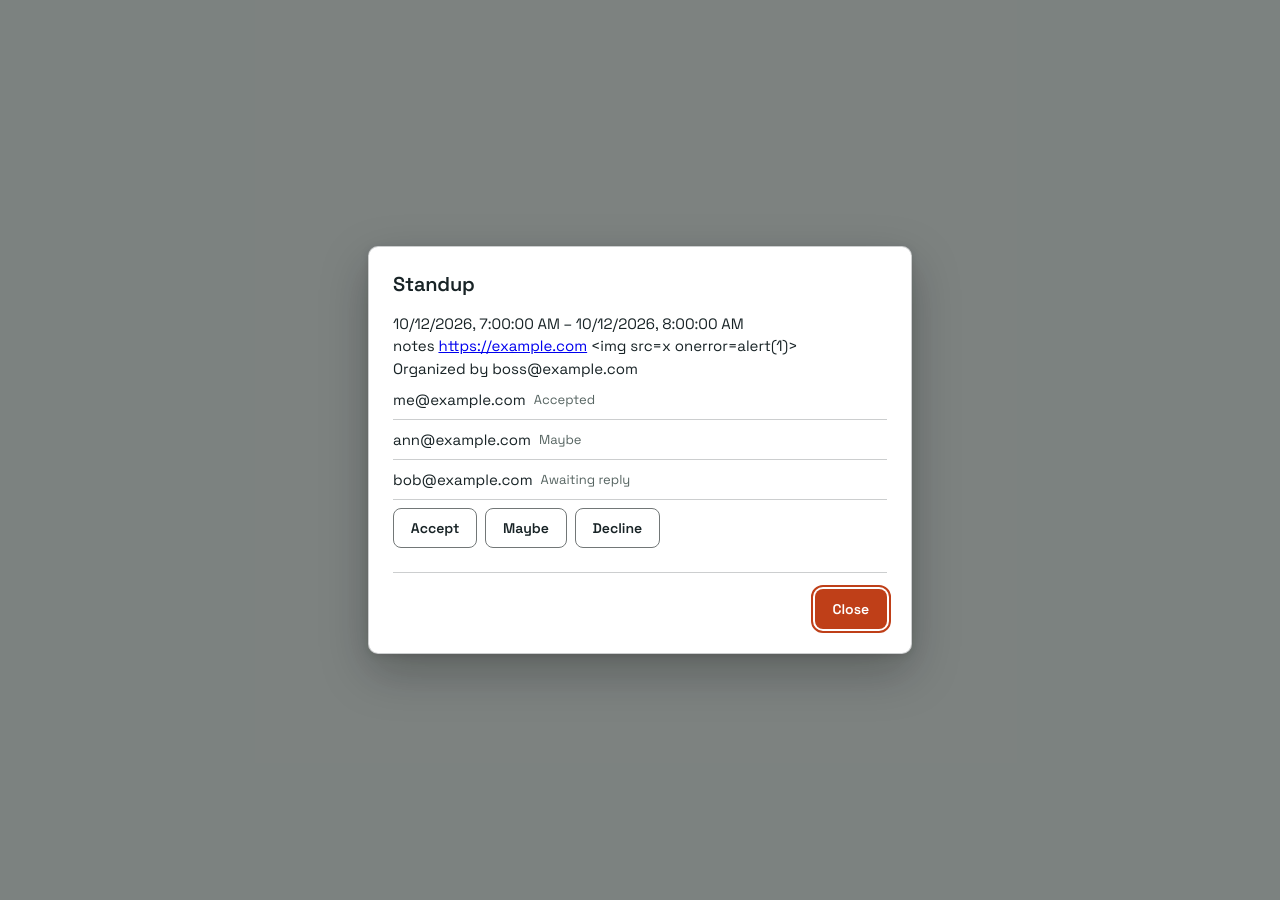
it: EventDialog › with scheduling › shows the server message when an answer fails
Click the button "Decline": (617, 528) [575,508,660,548]
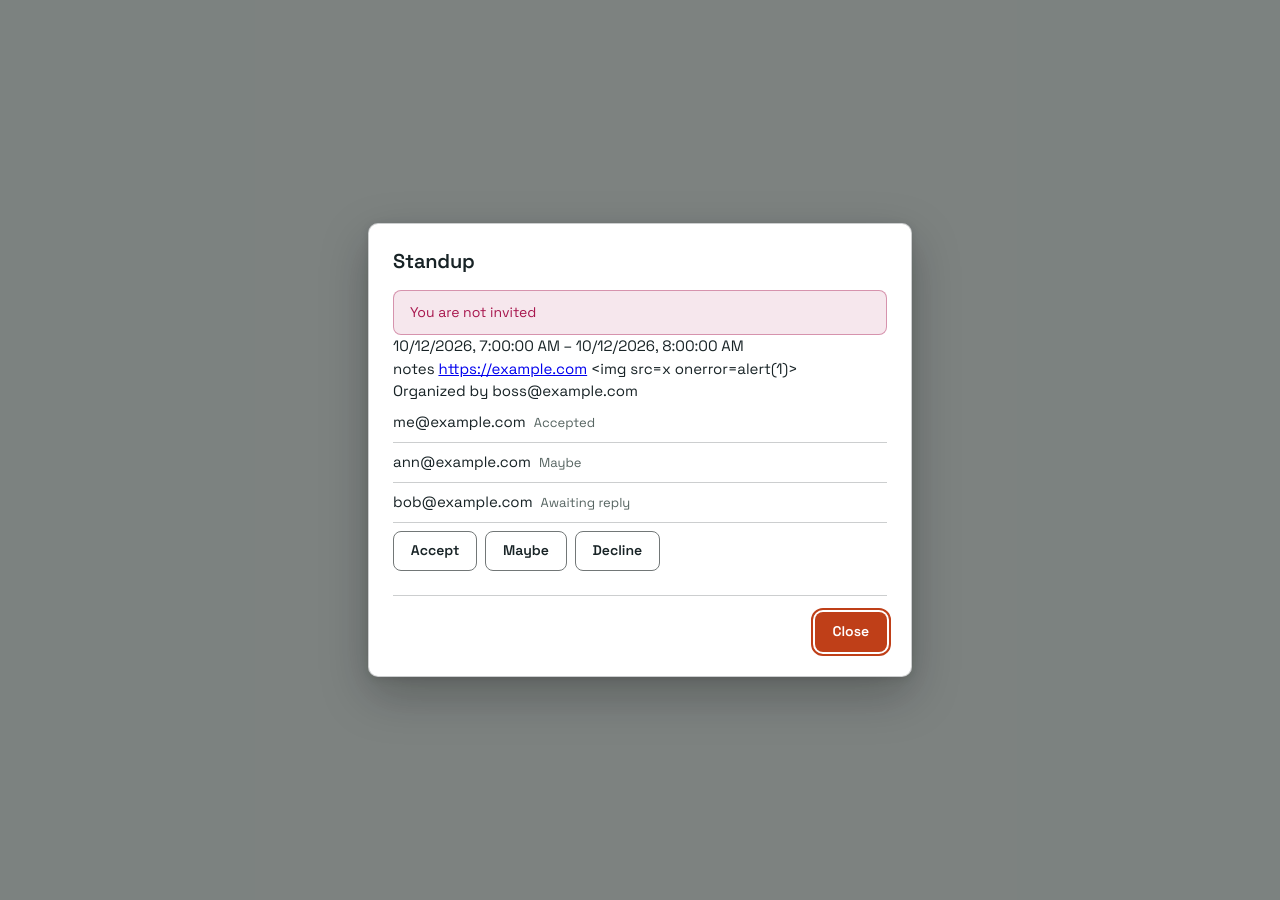
Check: the message reads "You are not invited", box [410,303,536,321]
